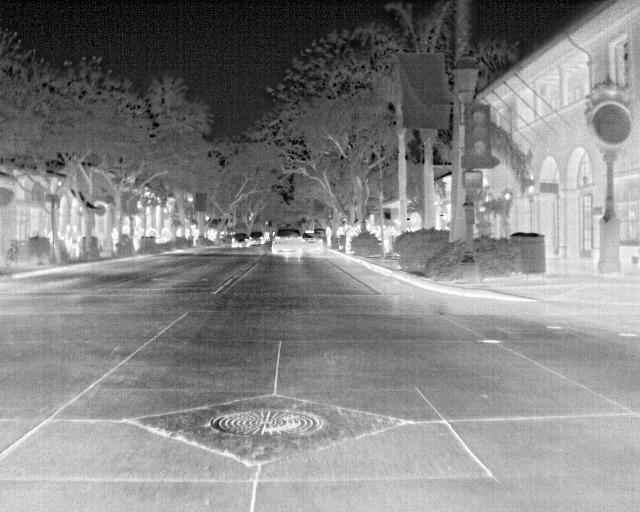bicycle: (272, 228, 306, 257), (301, 233, 324, 254), (232, 230, 252, 250), (249, 227, 266, 246)
empty: (68, 224, 81, 258), (108, 225, 121, 253), (188, 226, 201, 247), (322, 225, 333, 248)
